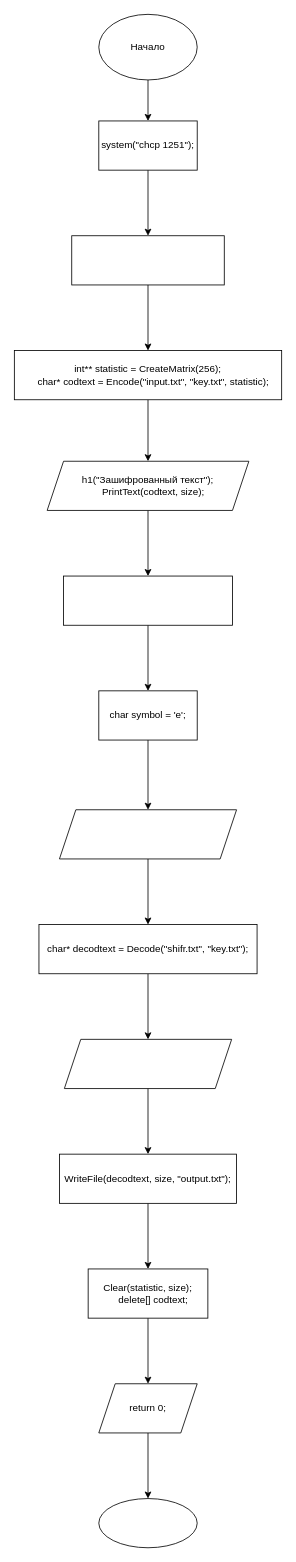
This 296x1562 diagram has some shape labels left out. Here are the shapes that lost their labels. From the top down, the box of each, then its label:
(71, 235, 224, 285): int size = FileSize("input.txt");
(63, 575, 232, 625): WriteFile(codtext, size, "shifr.txt");
(59, 809, 237, 859): GetStatistic(statistic, symbol);
(64, 1039, 232, 1089): h1("Расшифрованный текст"); PrintText(decodtext, size);
(98, 1498, 197, 1548): Конец
